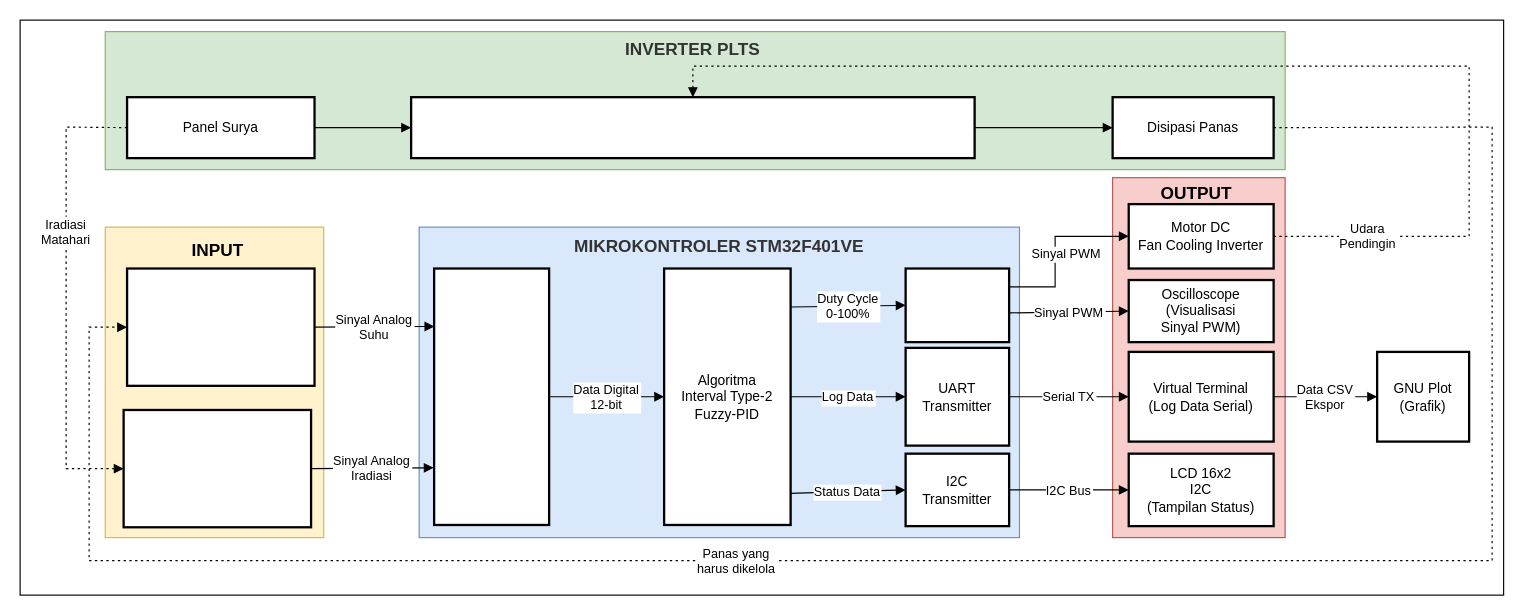
Image size: 1524x615. Some labels were removed from this diagram. Each missing label, with the centre of its shape:
ADC Multi-Channel (12-bit): [491,396]
Inverter: [692,127]
PWM Generator (Timer): [957,305]
Sensor Cahaya LDR (Analog 0-5V): [217,468]
Sensor Suhu LM35 (Analog 0-5V): [220,326]
